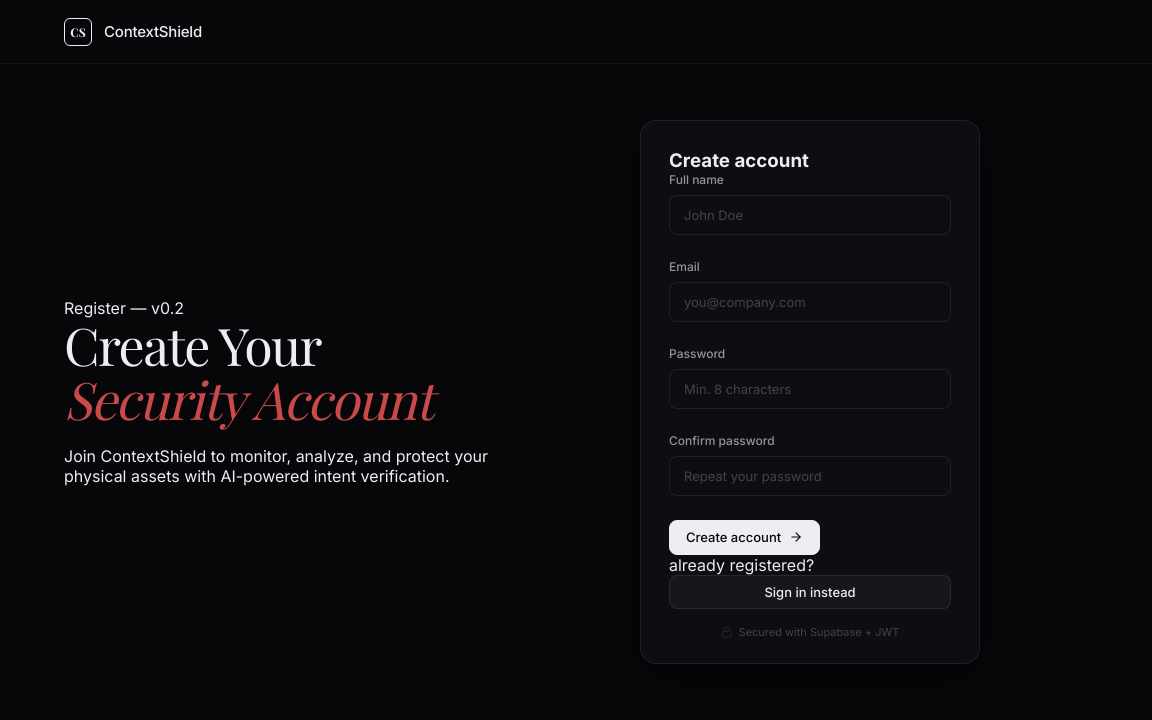
Test case: RegisterPage › shows validation error for short name
Type "J" into the field with placeholder "John Doe".
click(810, 215); type("J")  # box 669,195 -> 951,235
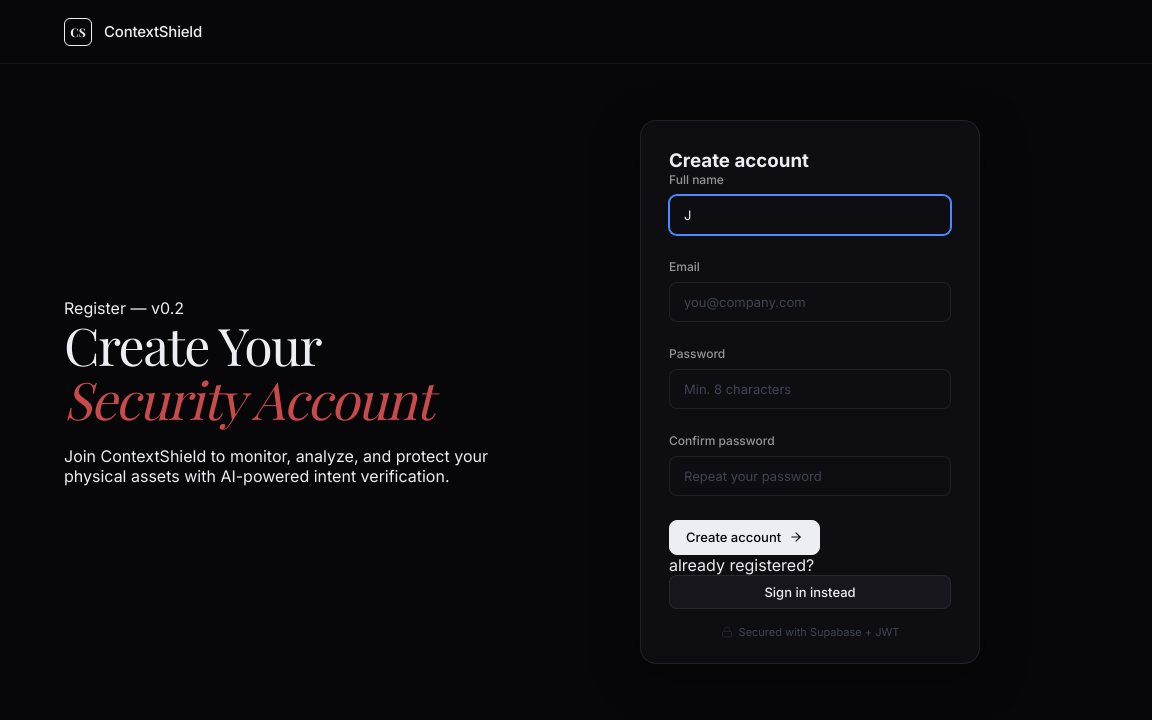
Type "test@example.com" into the field with placeholder "you@company.com".
click(810, 302); type("test@example.com")  # box 669,282 -> 951,322
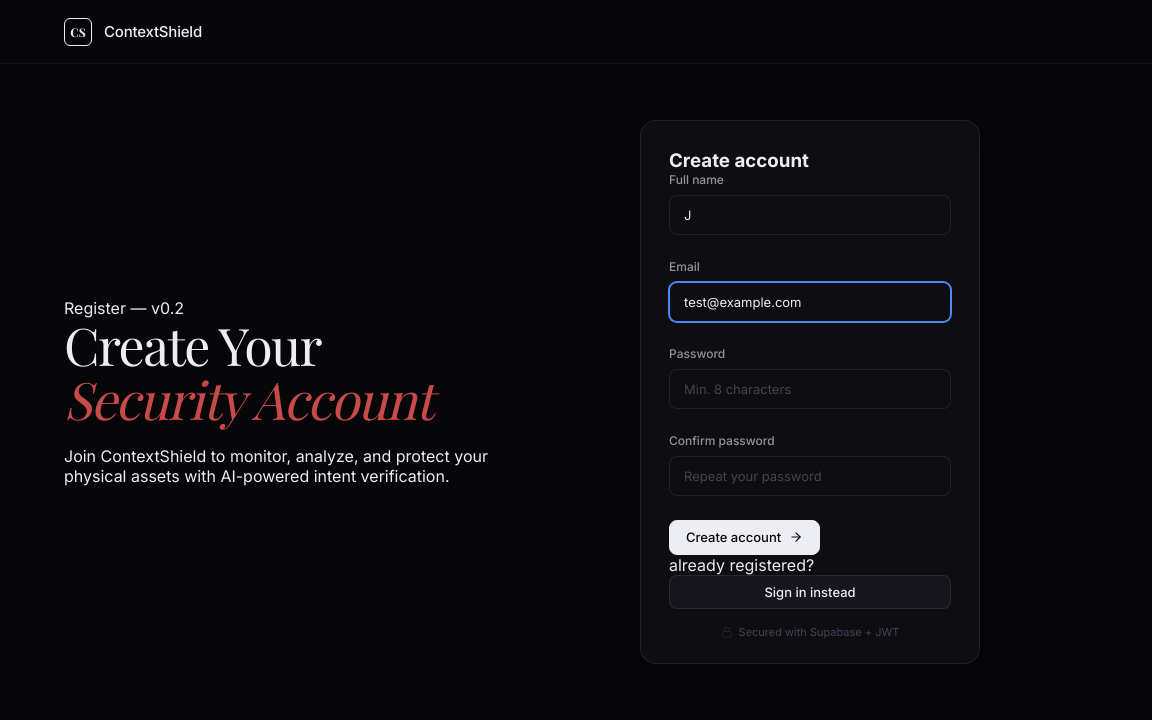
Type "password123" into the password field with placeholder "Min. 8 characters".
click(810, 389); type("password123")  # box 669,369 -> 951,409
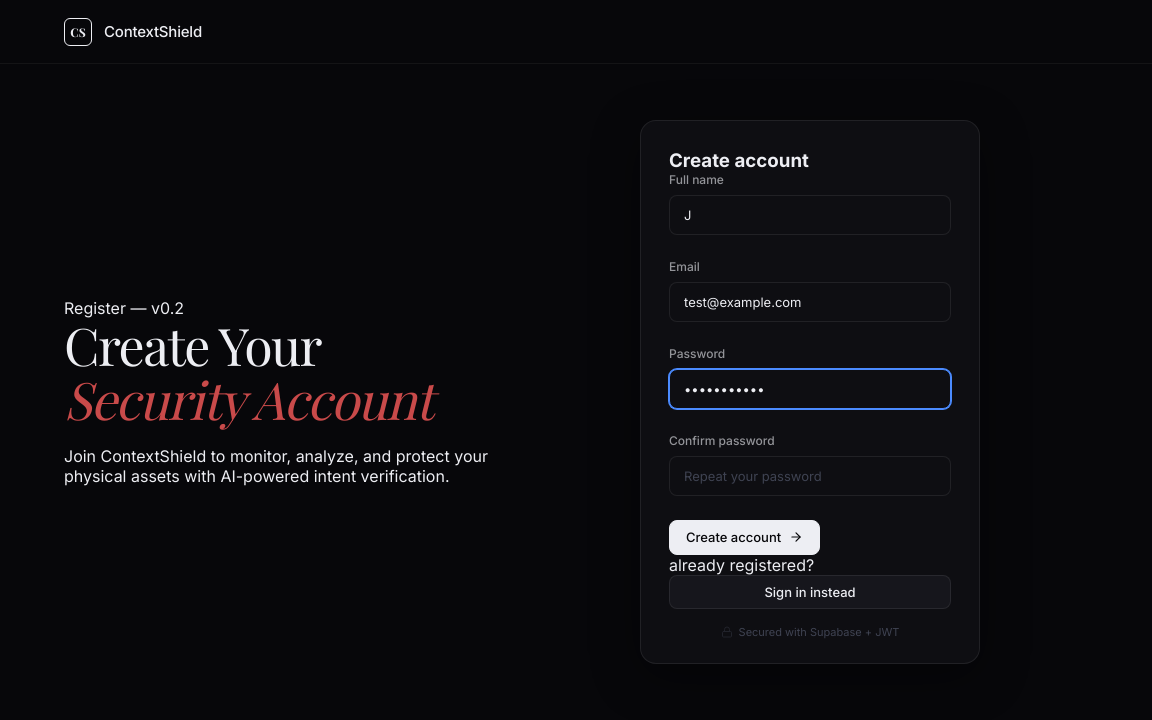
Type "password123" into the password field with placeholder "Repeat your password".
click(810, 476); type("password123")  # box 669,456 -> 951,496
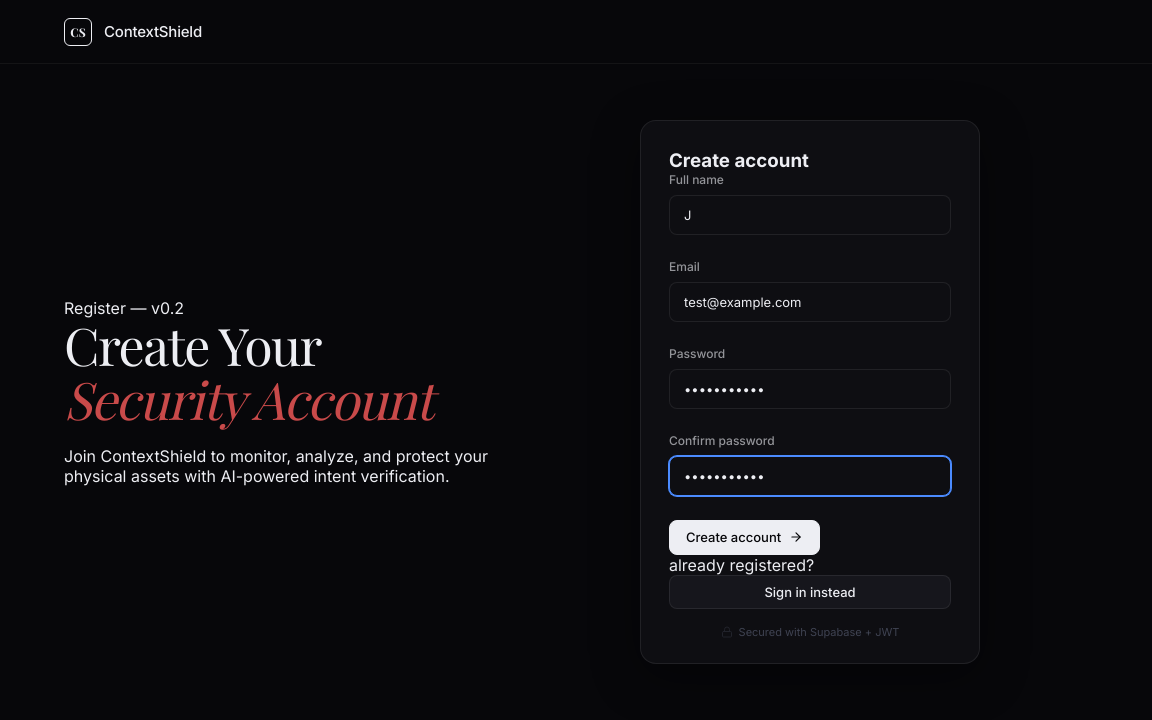
Click the button "Create account".
click(745, 537)  # box 669,520 -> 820,554
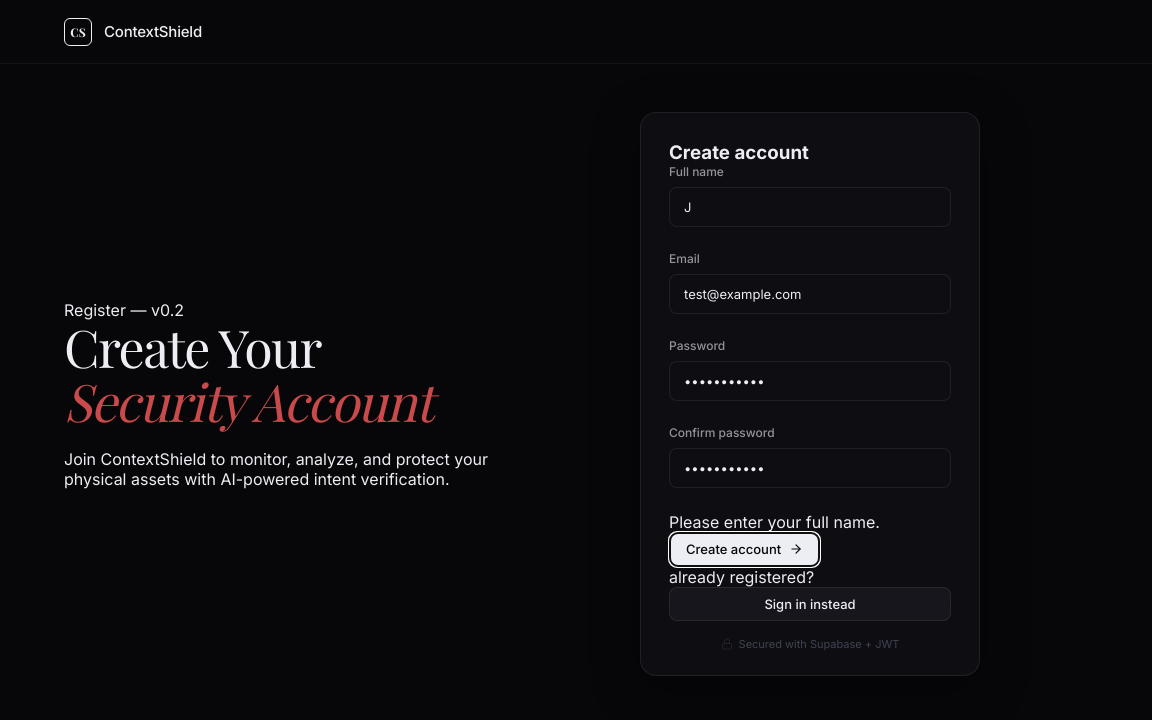
Now the text "Please enter your full name." is shown, box 669,512 -> 880,532
